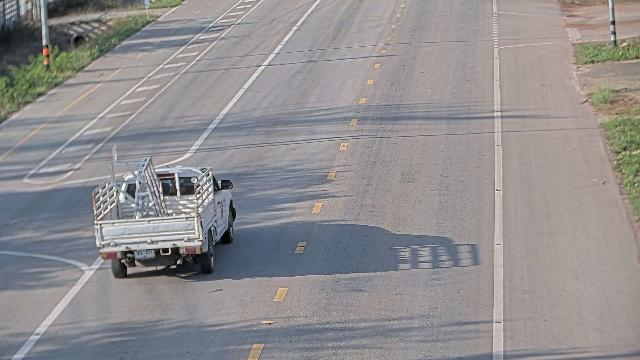pickup-truck: (91, 145, 237, 278)
